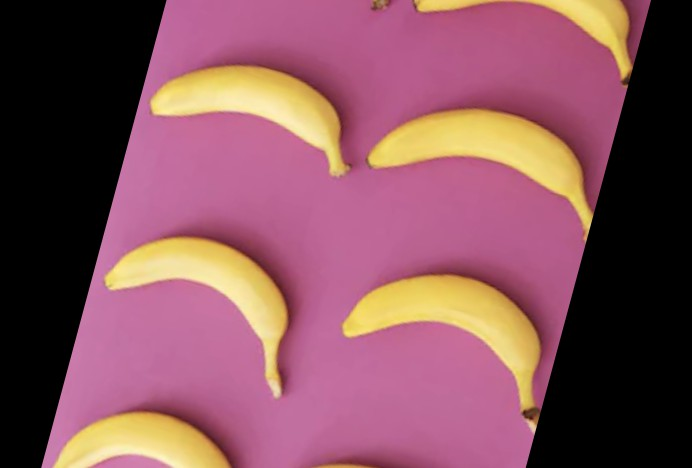fresh_banana: (343, 275, 540, 433), (369, 109, 591, 242), (104, 239, 288, 397), (151, 65, 351, 182), (55, 411, 229, 468)
